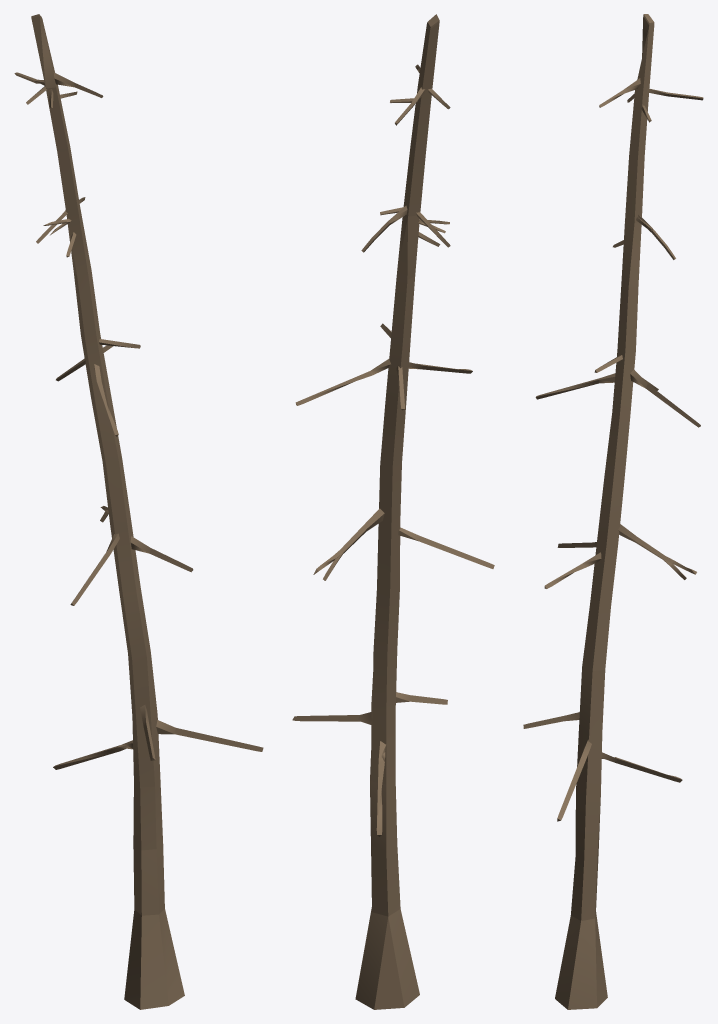
File: pine_bare_2.FBX
The picture shows the model from 3 angles, left to right: view 1: azimuth 30°, elevation 25°; view 2: azimuth 150°, elevation 25°; view 3: azimuth 270°, elevation 25°; orthographic projection. The views are drawn at different scales.
Visible parts, largest first — view 1: pine_bare_2; view 2: pine_bare_2; view 3: pine_bare_2.
Boxes of the visible parts, <box> form: pine_bare_2: <box>14,14,263,1009</box>; pine_bare_2: <box>292,14,494,1009</box>; pine_bare_2: <box>523,14,703,1009</box>.
Bounding box in the file's own units: 1.6 × 7.76 × 1.34.
